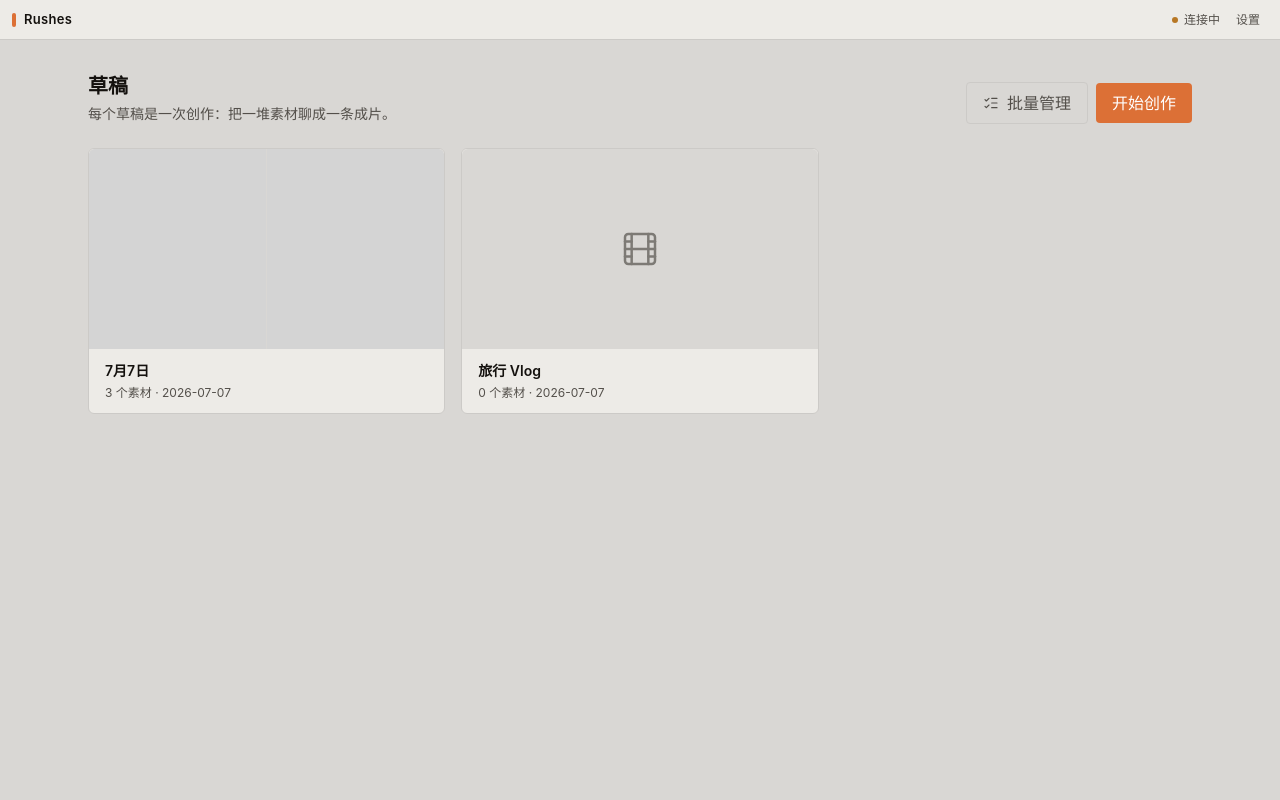
it: DraftsHomePage › 批量删除失败时保留选择和草稿并显示原子失败提示
Expected: the text "7月7日" is shown, [105,362,149,379]
Click the button "批量管理".
click(1027, 103)  # box [966,82,1088,124]
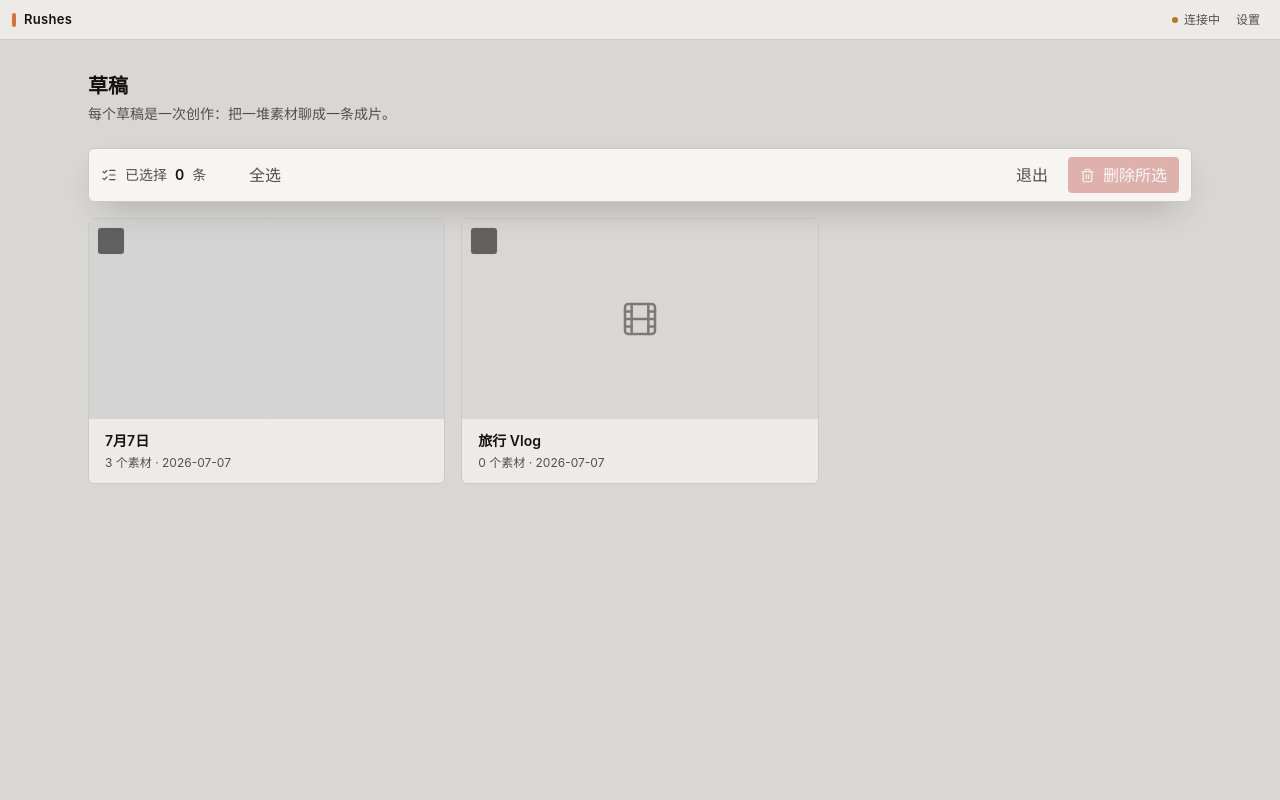
Click the button with aria-label "选择草稿 7月7日".
click(267, 351)  # box [89,219,444,483]
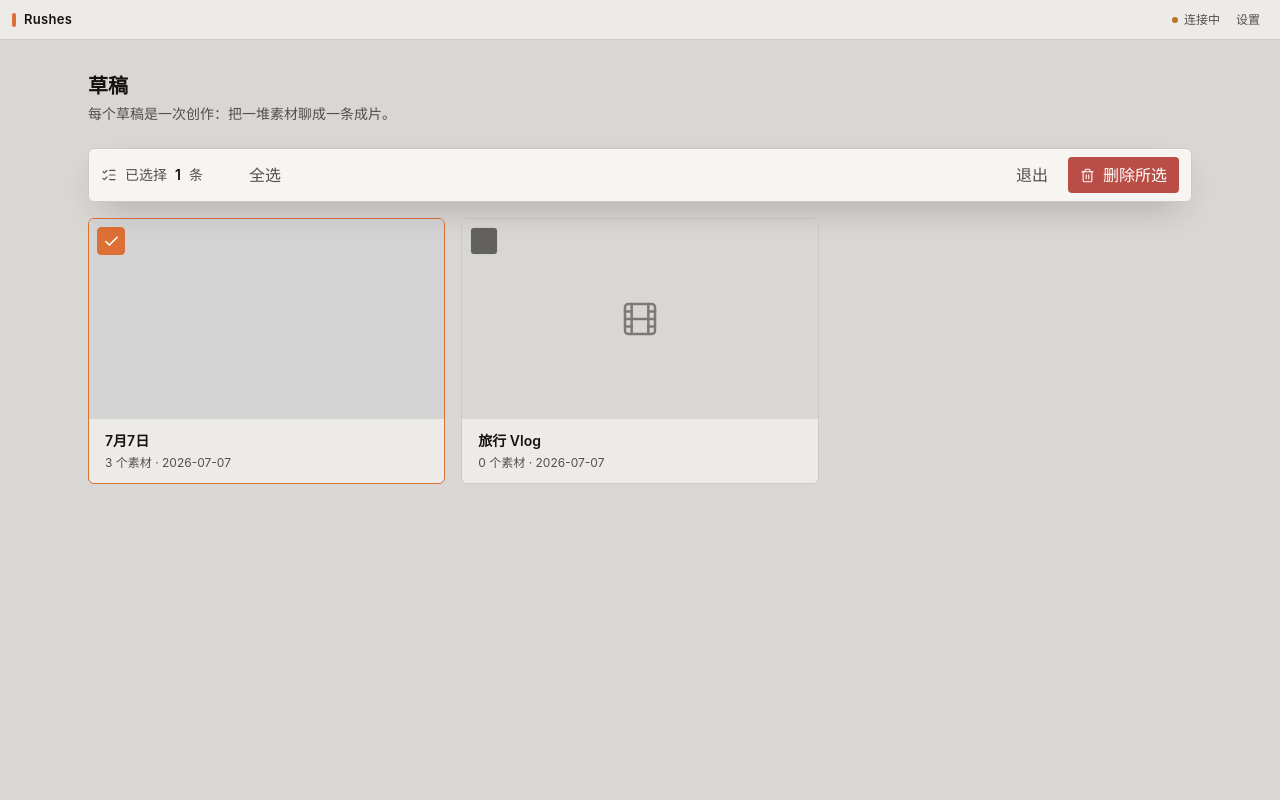
Click the button "删除所选".
click(1124, 175)  # box [1068,157,1179,193]
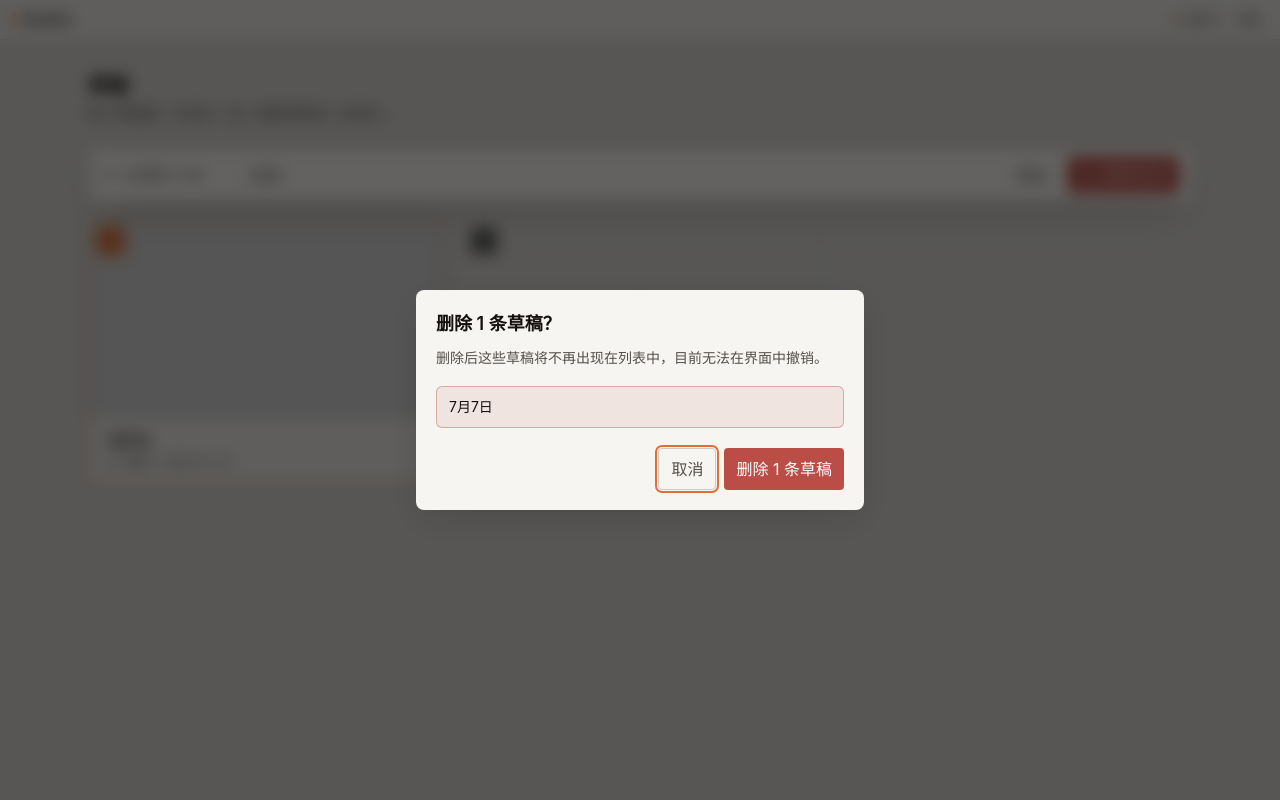
Click the button "删除 1 条草稿".
click(784, 469)  # box [724,448,844,490]
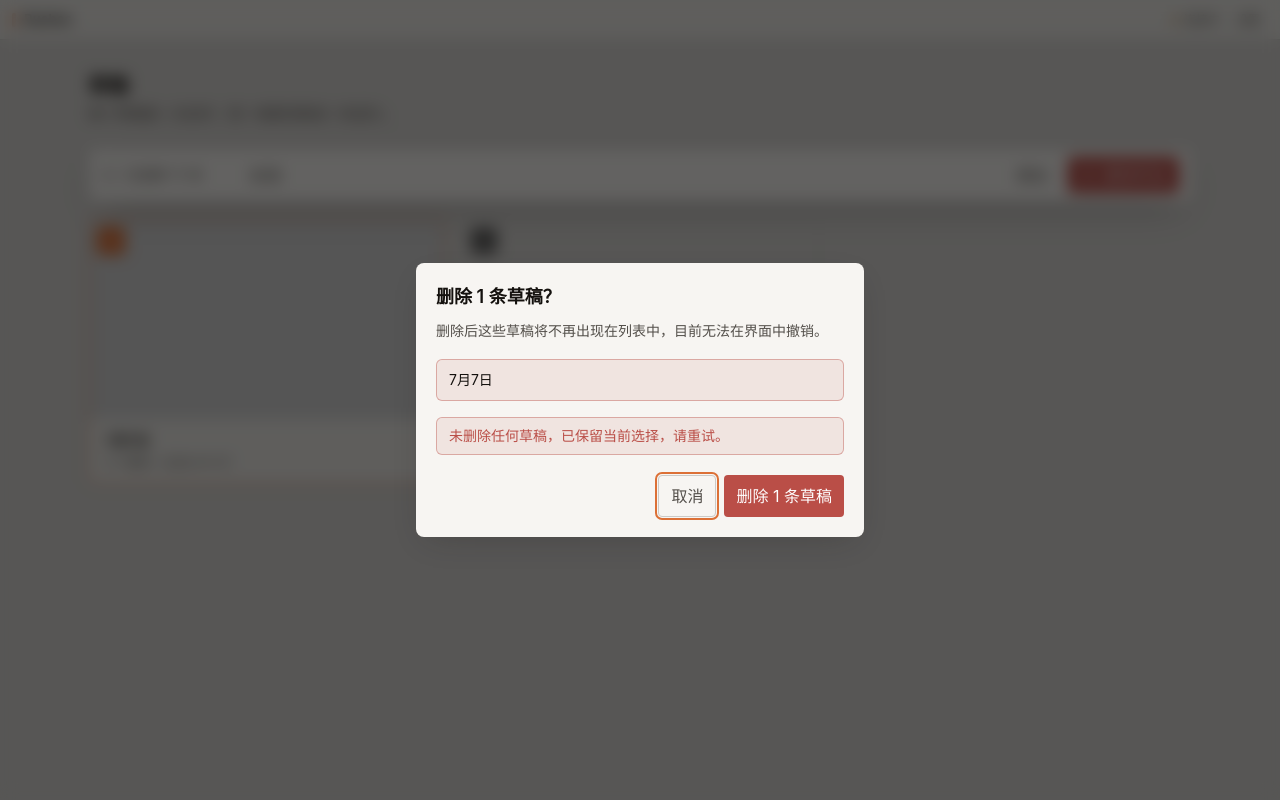
Now the message reads "未删除任何草稿，已保留当前选择，请重试。", box [449,427,729,444]
